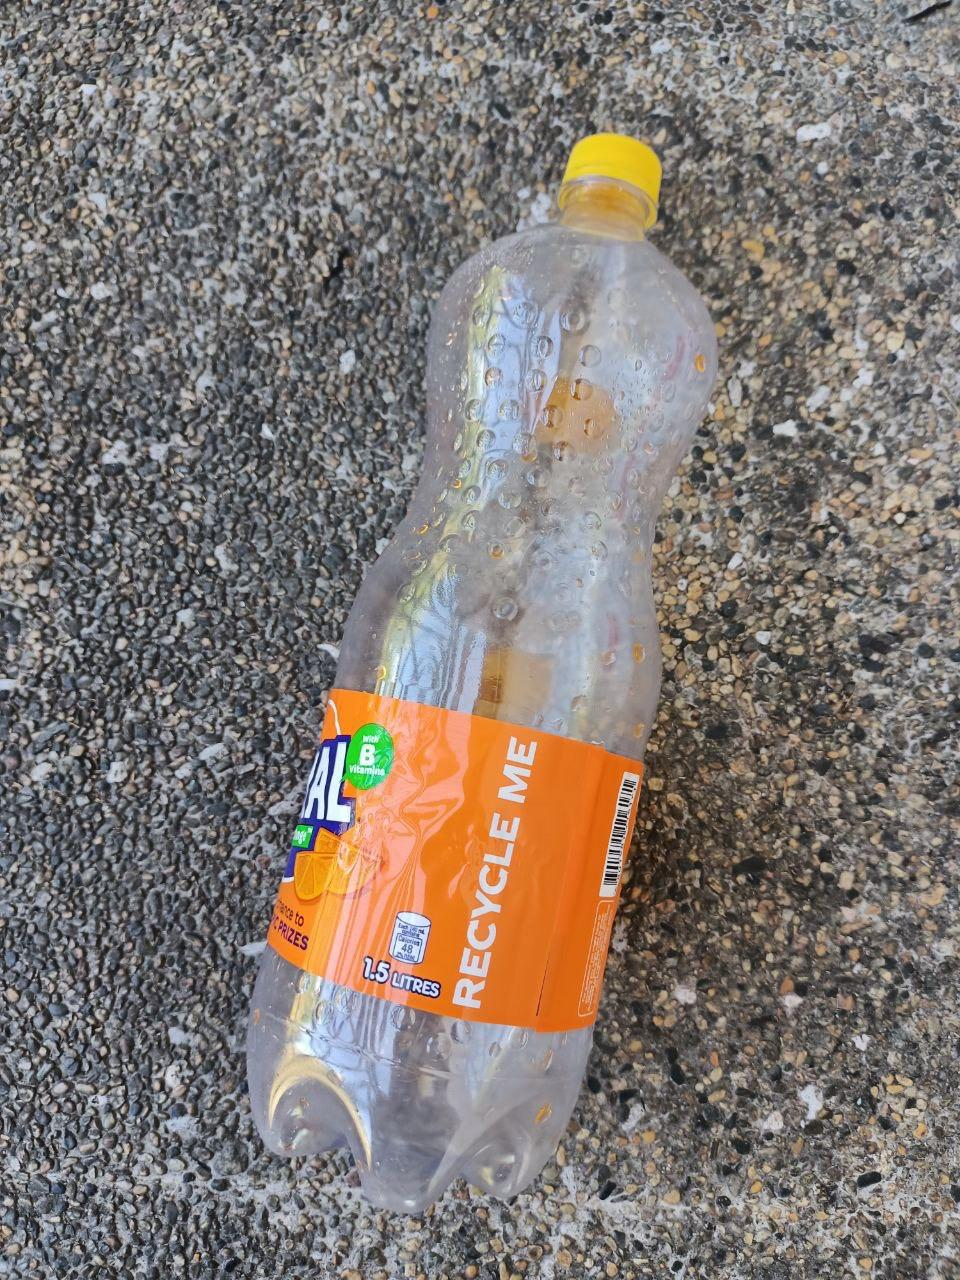plastic: (232, 102, 735, 1232)
